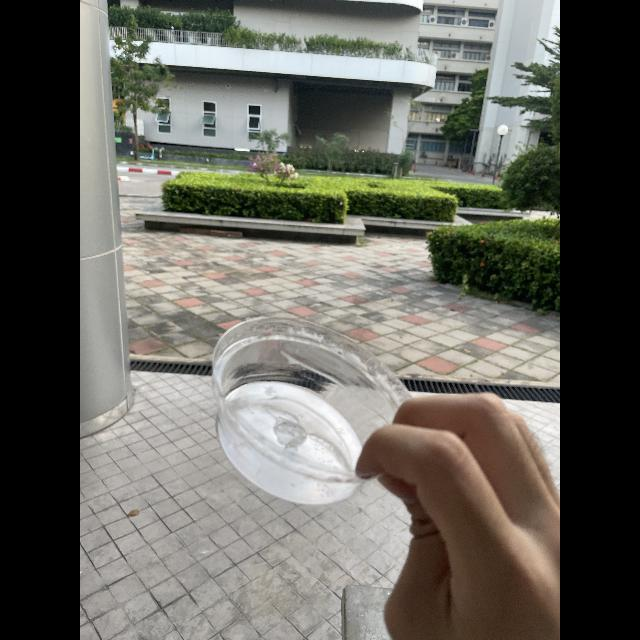plastic_cup_lid: (203, 308, 415, 514)
